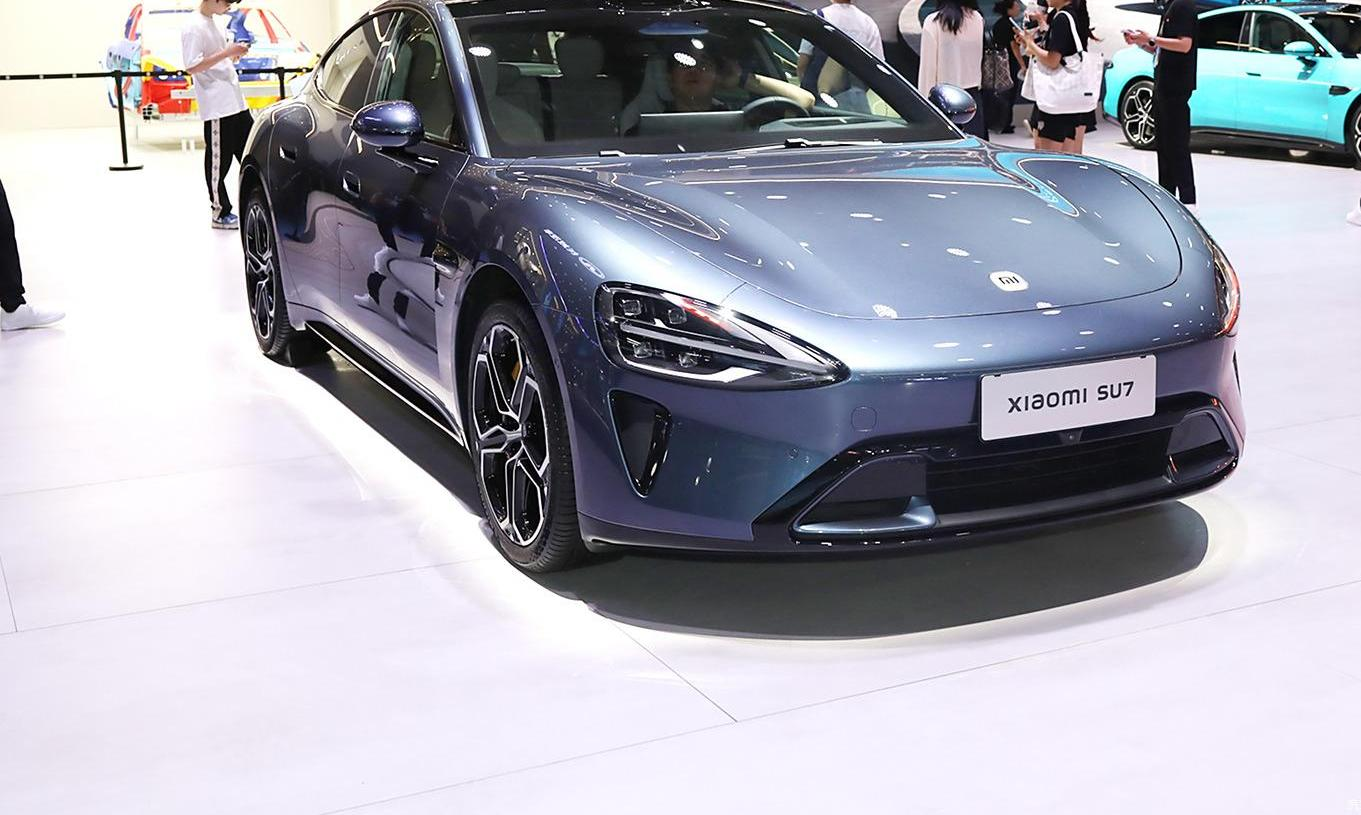XIAOMI: (988, 271, 1028, 292)
